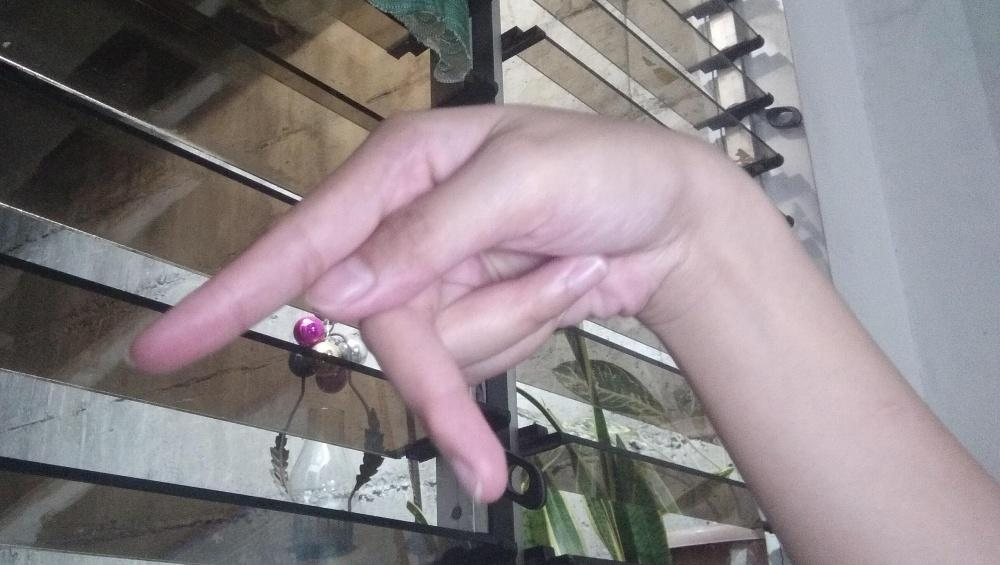p: (127, 99, 698, 506)
